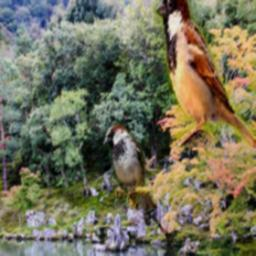Sparrow: (154, 0, 256, 149), (103, 123, 156, 209)
